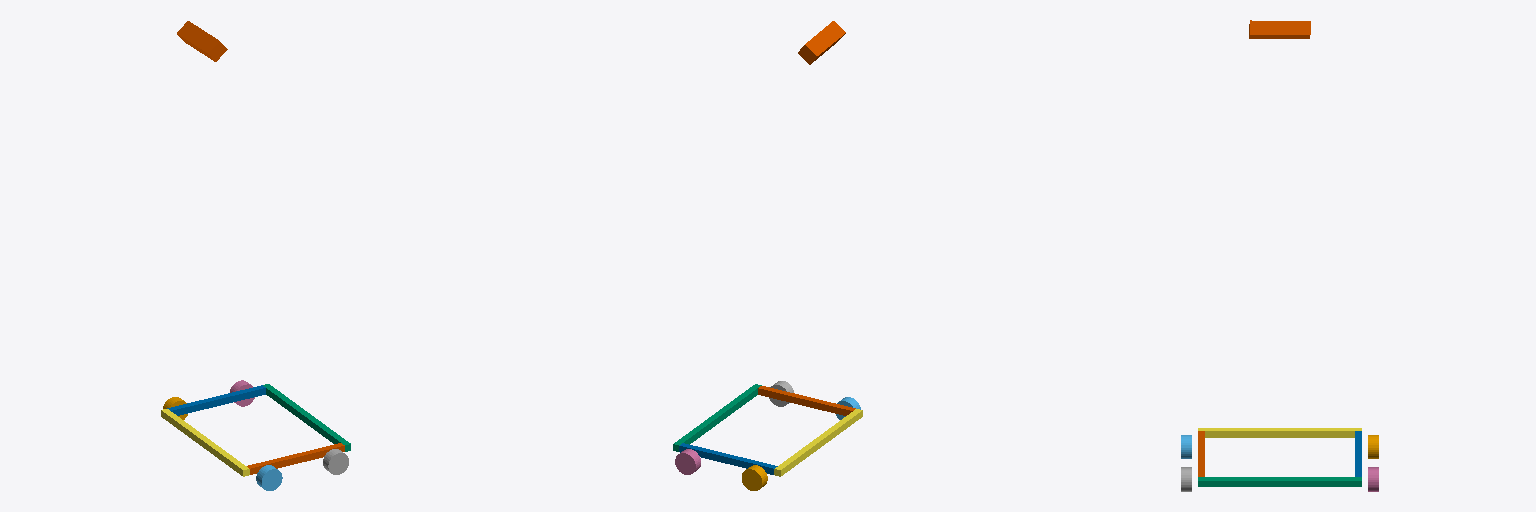
robot.urdf — new_base_real:
<?xml version="1.0"?>
<robot name="new_base_real">
  <link name="base_footprint"/>
  <link name="base_link"/>
  <joint name="base_joint" type="fixed">
    <parent link="base_footprint"/>
    <child link="base_link"/>
    <origin xyz="0 0 0" rpy="0 0 0"/>
  </joint>

  <link name="lower_front_rail_link">
    <visual><geometry><box size="0.020 0.450 0.020"/></geometry></visual>
    <collision><geometry><box size="0.020 0.450 0.020"/></geometry></collision>
  </link>
  <joint name="lower_front_rail_joint" type="fixed">
    <parent link="base_link"/><child link="lower_front_rail_link"/>
    <origin xyz="0.055 0 0.050" rpy="0 0 0"/>
  </joint>
  <link name="lower_rear_rail_link">
    <visual><geometry><box size="0.020 0.450 0.020"/></geometry></visual>
    <collision><geometry><box size="0.020 0.450 0.020"/></geometry></collision>
  </link>
  <joint name="lower_rear_rail_joint" type="fixed">
    <parent link="base_link"/><child link="lower_rear_rail_link"/>
    <origin xyz="-0.265 0 0.050" rpy="0 0 0"/>
  </joint>
  <link name="lower_left_rail_link">
    <visual><geometry><box size="0.300 0.020 0.020"/></geometry></visual>
    <collision><geometry><box size="0.300 0.020 0.020"/></geometry></collision>
  </link>
  <joint name="lower_left_rail_joint" type="fixed">
    <parent link="base_link"/><child link="lower_left_rail_link"/>
    <origin xyz="-0.105 0.215 0.050" rpy="0 0 0"/>
  </joint>
  <link name="lower_right_rail_link">
    <visual><geometry><box size="0.300 0.020 0.020"/></geometry></visual>
    <collision><geometry><box size="0.300 0.020 0.020"/></geometry></collision>
  </link>
  <joint name="lower_right_rail_joint" type="fixed">
    <parent link="base_link"/><child link="lower_right_rail_link"/>
    <origin xyz="-0.105 -0.215 0.050" rpy="0 0 0"/>
  </joint>

  <link name="left_wheel_link">
    <visual><origin rpy="1.5707963268 0 0"/><geometry><cylinder radius="0.0329" length="0.030"/></geometry></visual>
    <collision><origin rpy="1.5707963268 0 0"/><geometry><cylinder radius="0.0329" length="0.030"/></geometry></collision>
  </link>
  <joint name="left_wheel_joint" type="continuous">
    <parent link="base_link"/><child link="left_wheel_link"/>
    <origin xyz="0 0.255 0.0329" rpy="0 0 0"/><axis xyz="0 1 0"/>
  </joint>
  <link name="right_wheel_link">
    <visual><origin rpy="1.5707963268 0 0"/><geometry><cylinder radius="0.0329" length="0.030"/></geometry></visual>
    <collision><origin rpy="1.5707963268 0 0"/><geometry><cylinder radius="0.0329" length="0.030"/></geometry></collision>
  </link>
  <joint name="right_wheel_joint" type="continuous">
    <parent link="base_link"/><child link="right_wheel_link"/>
    <origin xyz="0 -0.255 0.0329" rpy="0 0 0"/><axis xyz="0 1 0"/>
  </joint>

  <link name="rear_left_wheel_link">
    <visual><origin rpy="1.5707963268 0 0"/><geometry><cylinder radius="0.0329" length="0.030"/></geometry></visual>
    <collision><origin rpy="1.5707963268 0 0"/><geometry><cylinder radius="0.0329" length="0.030"/></geometry></collision>
  </link>
  <joint name="rear_left_wheel_joint" type="continuous">
    <parent link="base_link"/><child link="rear_left_wheel_link"/>
    <origin xyz="-0.210 0.255 0.0329" rpy="0 0 0"/><axis xyz="0 1 0"/>
  </joint>
  <link name="rear_right_wheel_link">
    <visual><origin rpy="1.5707963268 0 0"/><geometry><cylinder radius="0.0329" length="0.030"/></geometry></visual>
    <collision><origin rpy="1.5707963268 0 0"/><geometry><cylinder radius="0.0329" length="0.030"/></geometry></collision>
  </link>
  <joint name="rear_right_wheel_joint" type="continuous">
    <parent link="base_link"/><child link="rear_right_wheel_link"/>
    <origin xyz="-0.210 -0.255 0.0329" rpy="0 0 0"/><axis xyz="0 1 0"/>
  </joint>

  <link name="laser_link"/>
  <joint name="laser_joint" type="fixed">
    <parent link="base_link"/><child link="laser_link"/>
    <origin xyz="-0.010 0 0.150" rpy="0 0 3.202979549615386"/>
  </joint>
  <!-- ESP32 board IMU: z down, board y forward, board x left
       (config/new_base_geometry.yaml imu_rotation_rpy). Position not measured. -->
  <link name="imu_link"/>
  <joint name="imu_joint" type="fixed">
    <parent link="base_link"/><child link="imu_link"/>
    <origin xyz="0 0 0" rpy="3.141592653589793 0 1.5707963267948966"/>
  </joint>
  <!-- 상판과 렌즈의 높이 근거: jdamr_cube_navigation/config/camera_mount_current.yaml -->
  <link name="upper_tabletop_surface_frame"/>
  <joint name="upper_tabletop_surface_joint" type="fixed">
    <parent link="base_link"/><child link="upper_tabletop_surface_frame"/>
    <origin xyz="0 0 0.720" rpy="0 0 0"/>
  </joint>
  <link name="camera_link">
    <visual><geometry><box size="0.040 0.165 0.048"/></geometry></visual>
  </link>
  <joint name="camera_mount_joint" type="fixed">
    <parent link="upper_tabletop_surface_frame"/><child link="camera_link"/>
    <origin xyz="-0.275 0 0.540" rpy="-0.039023134986489794 0.9171698002732518 -0.0007507445375463481"/>
  </joint>
  <!-- camera_link 하위 광학 프레임은 Astra 드라이버가 발행한다. -->
</robot>

--- What the picture shows (computed from the rendered views, not written in the file) ---
Views: 3 orthographic renders of the robot side by side, from view 1: azimuth 30°, elevation 25°; view 2: azimuth 150°, elevation 25°; view 3: azimuth 270°, elevation 25°.
Robot: new_base_real — 14 links, 13 joints (4 continuous, 9 fixed); root link base_footprint; default pose: every joint at zero.
Visible links, largest first — view 1: lower_rear_rail_link, lower_front_rail_link, camera_link, lower_left_rail_link, lower_right_rail_link; view 2: lower_rear_rail_link, lower_front_rail_link, lower_right_rail_link, camera_link, lower_left_rail_link; view 3: lower_front_rail_link, lower_rear_rail_link, camera_link.
Boxes of the visible links, <box> form: lower_rear_rail_link: <box>161,409,249,476</box>; lower_front_rail_link: <box>263,384,350,451</box>; camera_link: <box>177,21,227,61</box>; lower_left_rail_link: <box>167,385,265,415</box>; lower_right_rail_link: <box>247,443,344,474</box>; lower_rear_rail_link: <box>774,409,862,476</box>; lower_front_rail_link: <box>673,384,761,451</box>; lower_right_rail_link: <box>758,386,855,415</box>; camera_link: <box>798,21,845,64</box>; lower_left_rail_link: <box>679,443,777,474</box>; lower_front_rail_link: <box>1198,477,1361,486</box>; lower_rear_rail_link: <box>1198,428,1361,437</box>; camera_link: <box>1249,20,1310,38</box>.
Size in the robot's own frame: 0.3737 by 0.54 by 1.29 metres.
Geometry: primitives only (box / cylinder / sphere), no mesh files.
